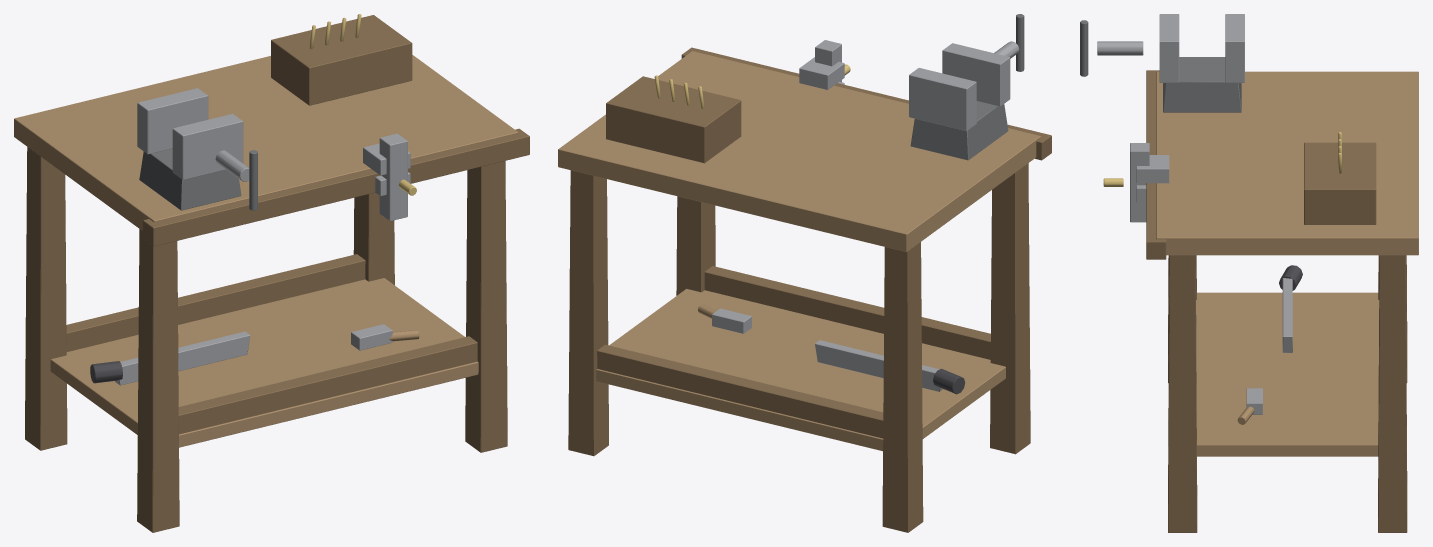
The model's file is DD_workbench1.fbx.
3 renders of one model, left to right at view 1: azimuth 30°, elevation 25°; view 2: azimuth 150°, elevation 25°; view 3: azimuth 270°, elevation 25°, orthographic. The views are drawn at different scales.
Parts seen in each view (by area): view 1: DD_workbench1; view 2: DD_workbench1; view 3: DD_workbench1.
Part boxes in pixels (bbox=[...]): DD_workbench1: bbox=[14, 14, 529, 532]; DD_workbench1: bbox=[558, 14, 1051, 532]; DD_workbench1: bbox=[1080, 14, 1418, 532].
Bounding box in the file's own units: 1.24 × 1.26 × 1.03.
